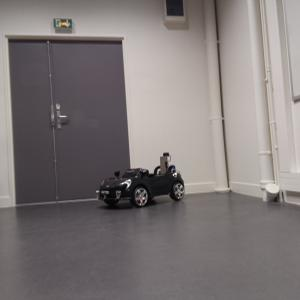big: (95, 165, 186, 207)
